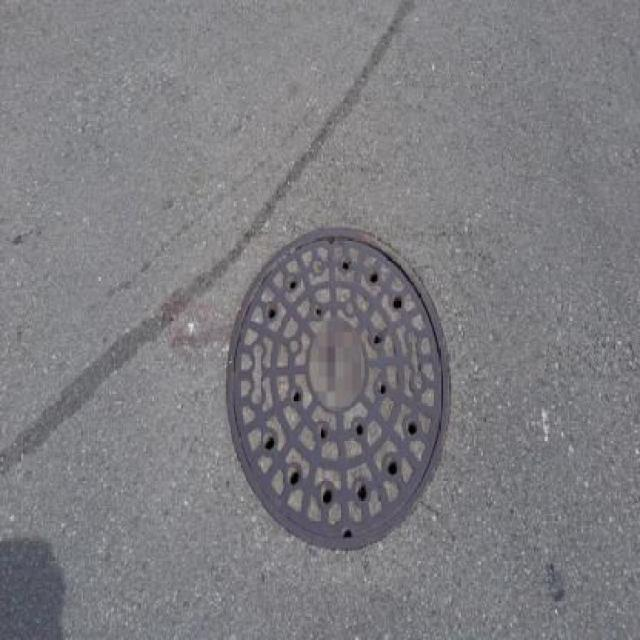Sewer Cover: (202, 204, 485, 582)
